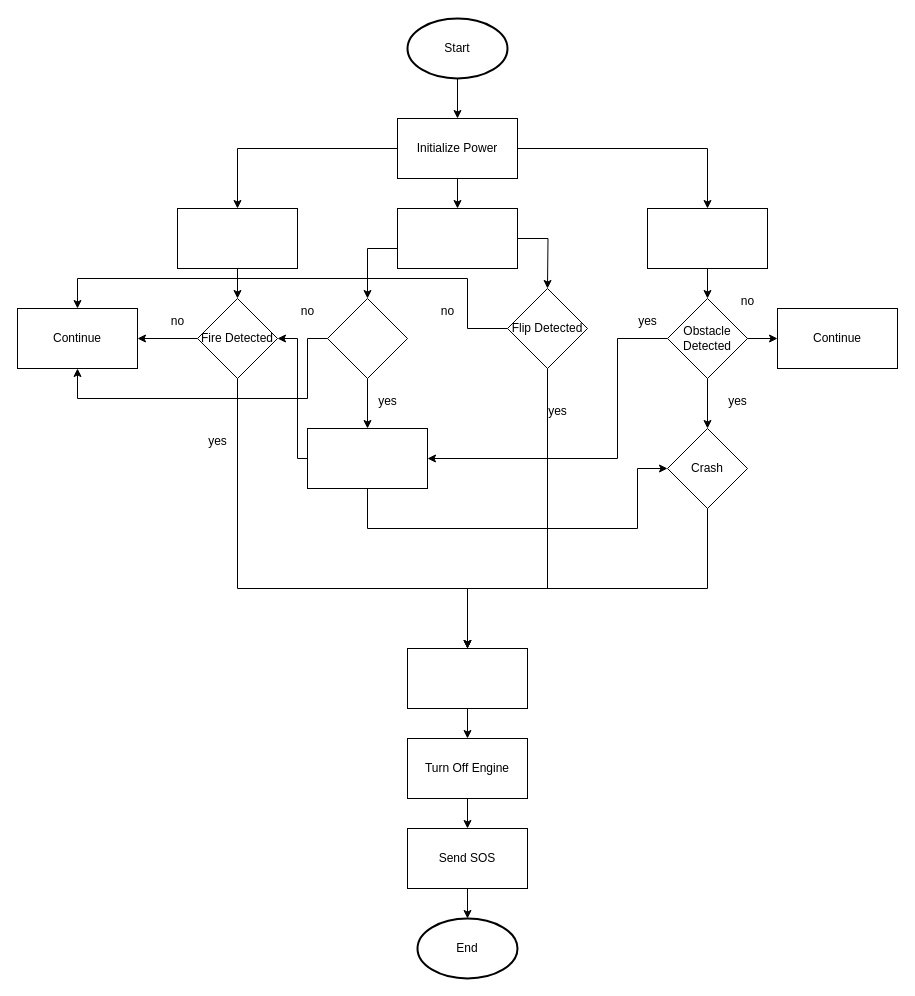
The diagram is 915 pixels wide and 996 high, and some of its shapes have lost their labels. Here are the shapes that lost their labels. From the top down, the centre of each, then its label:
[237,238]: Flame Sensor
[457,238]: Gyro Sensor
[707,238]: Ultrasonic Sensor
[367,338]: High Temp
[367,458]: Warn
[467,678]: Get Location
